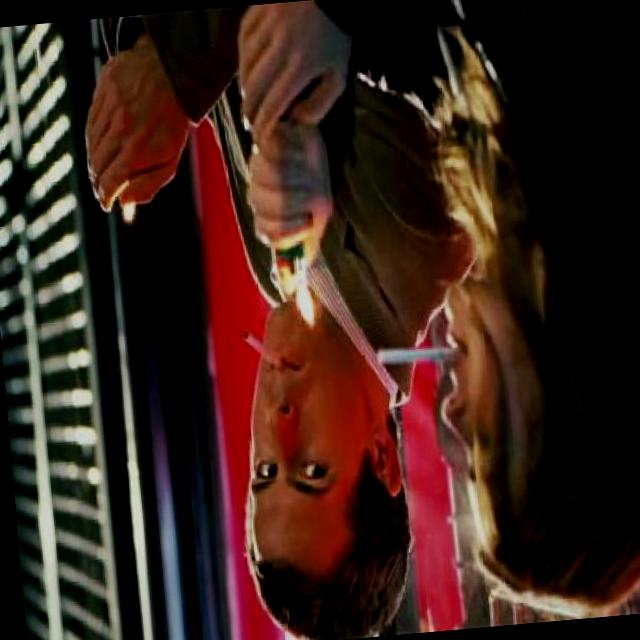smoke: (374, 338, 468, 371), (242, 325, 286, 374)
